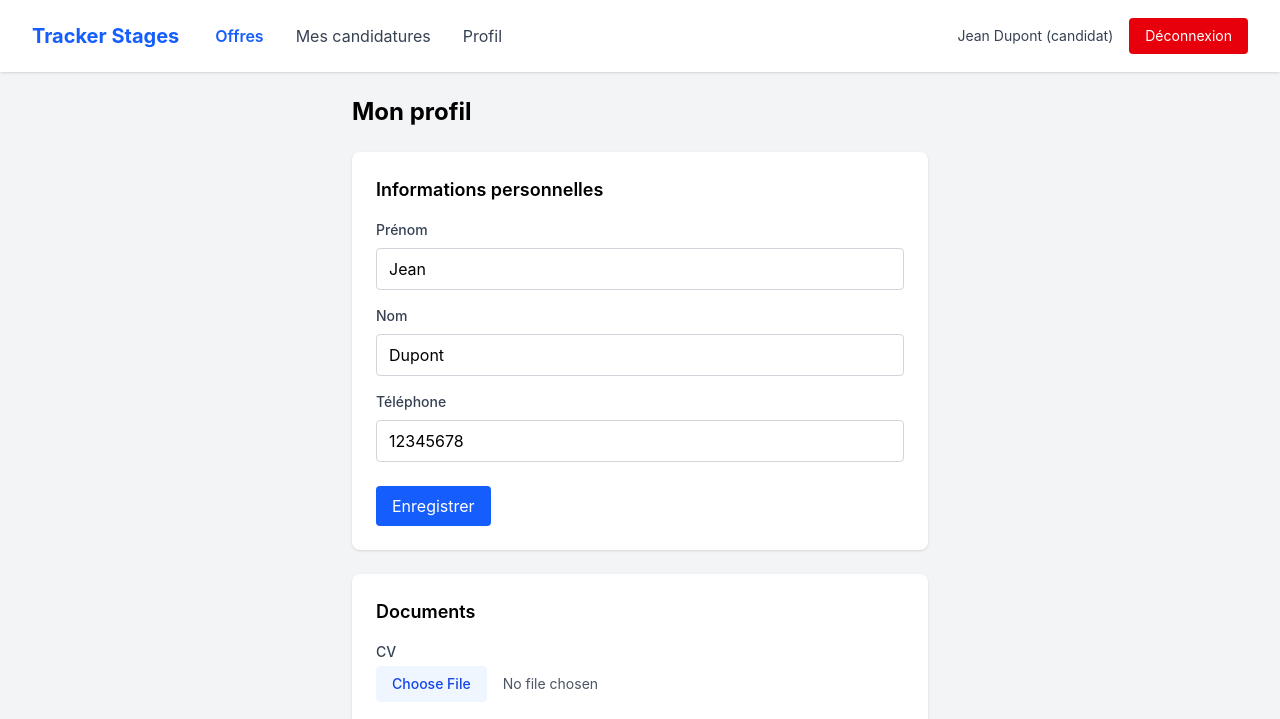
Scenario: ProfilPage › affiche un message d'erreur si la sauvegarde échoue
Click the button "Enregistrer". click: x=433, y=506
box: [376,486,491,526]
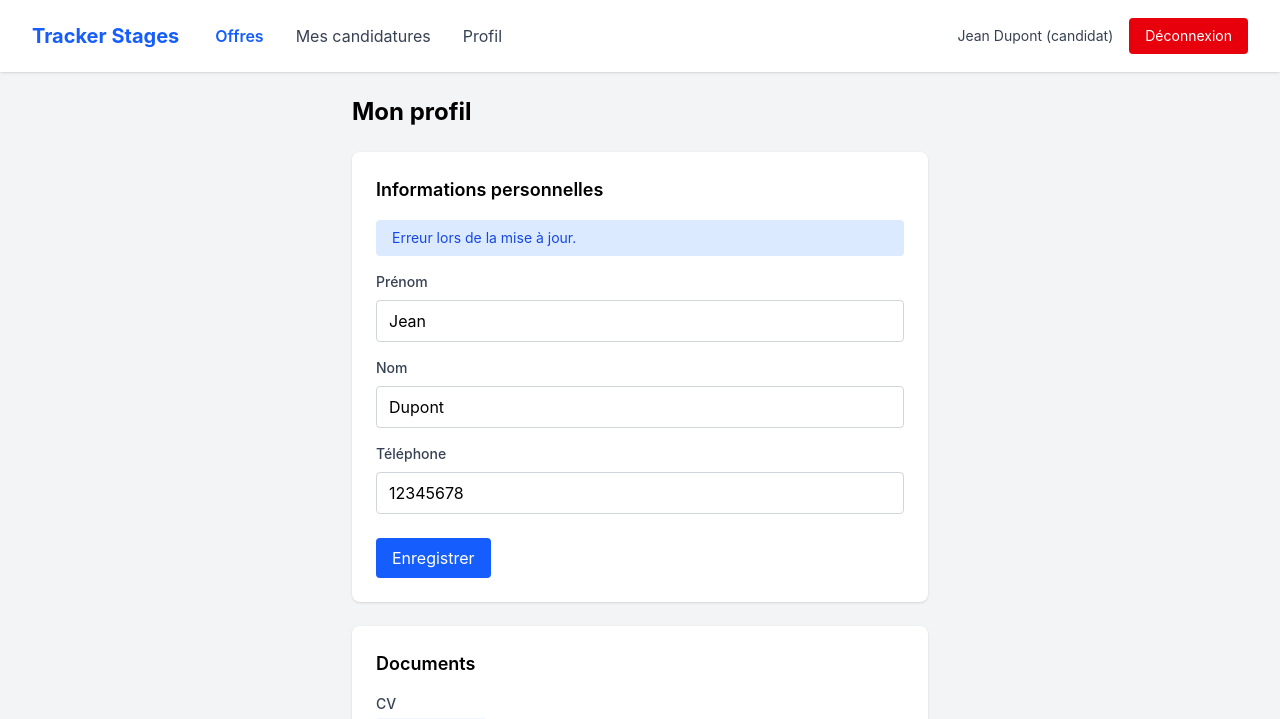
Expected: the text "Erreur lors de la mise à jour." is shown, [376,220,904,256]
